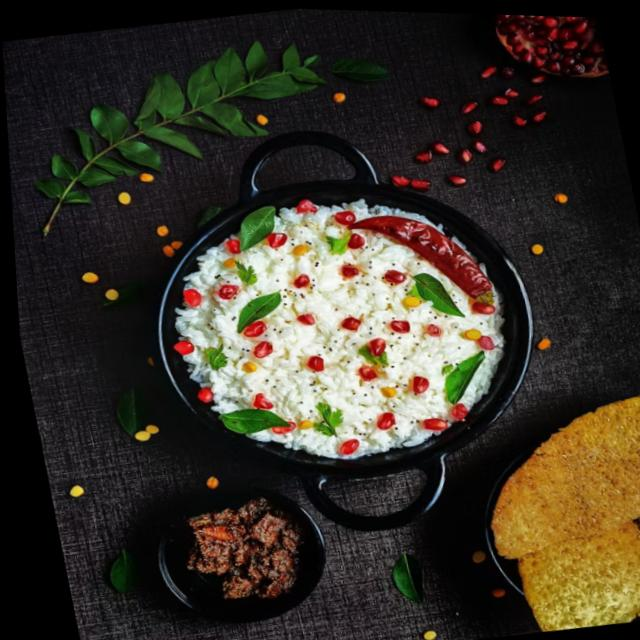CURD RICE: (177, 210, 498, 455)
PAPADAM: (486, 398, 640, 631)
